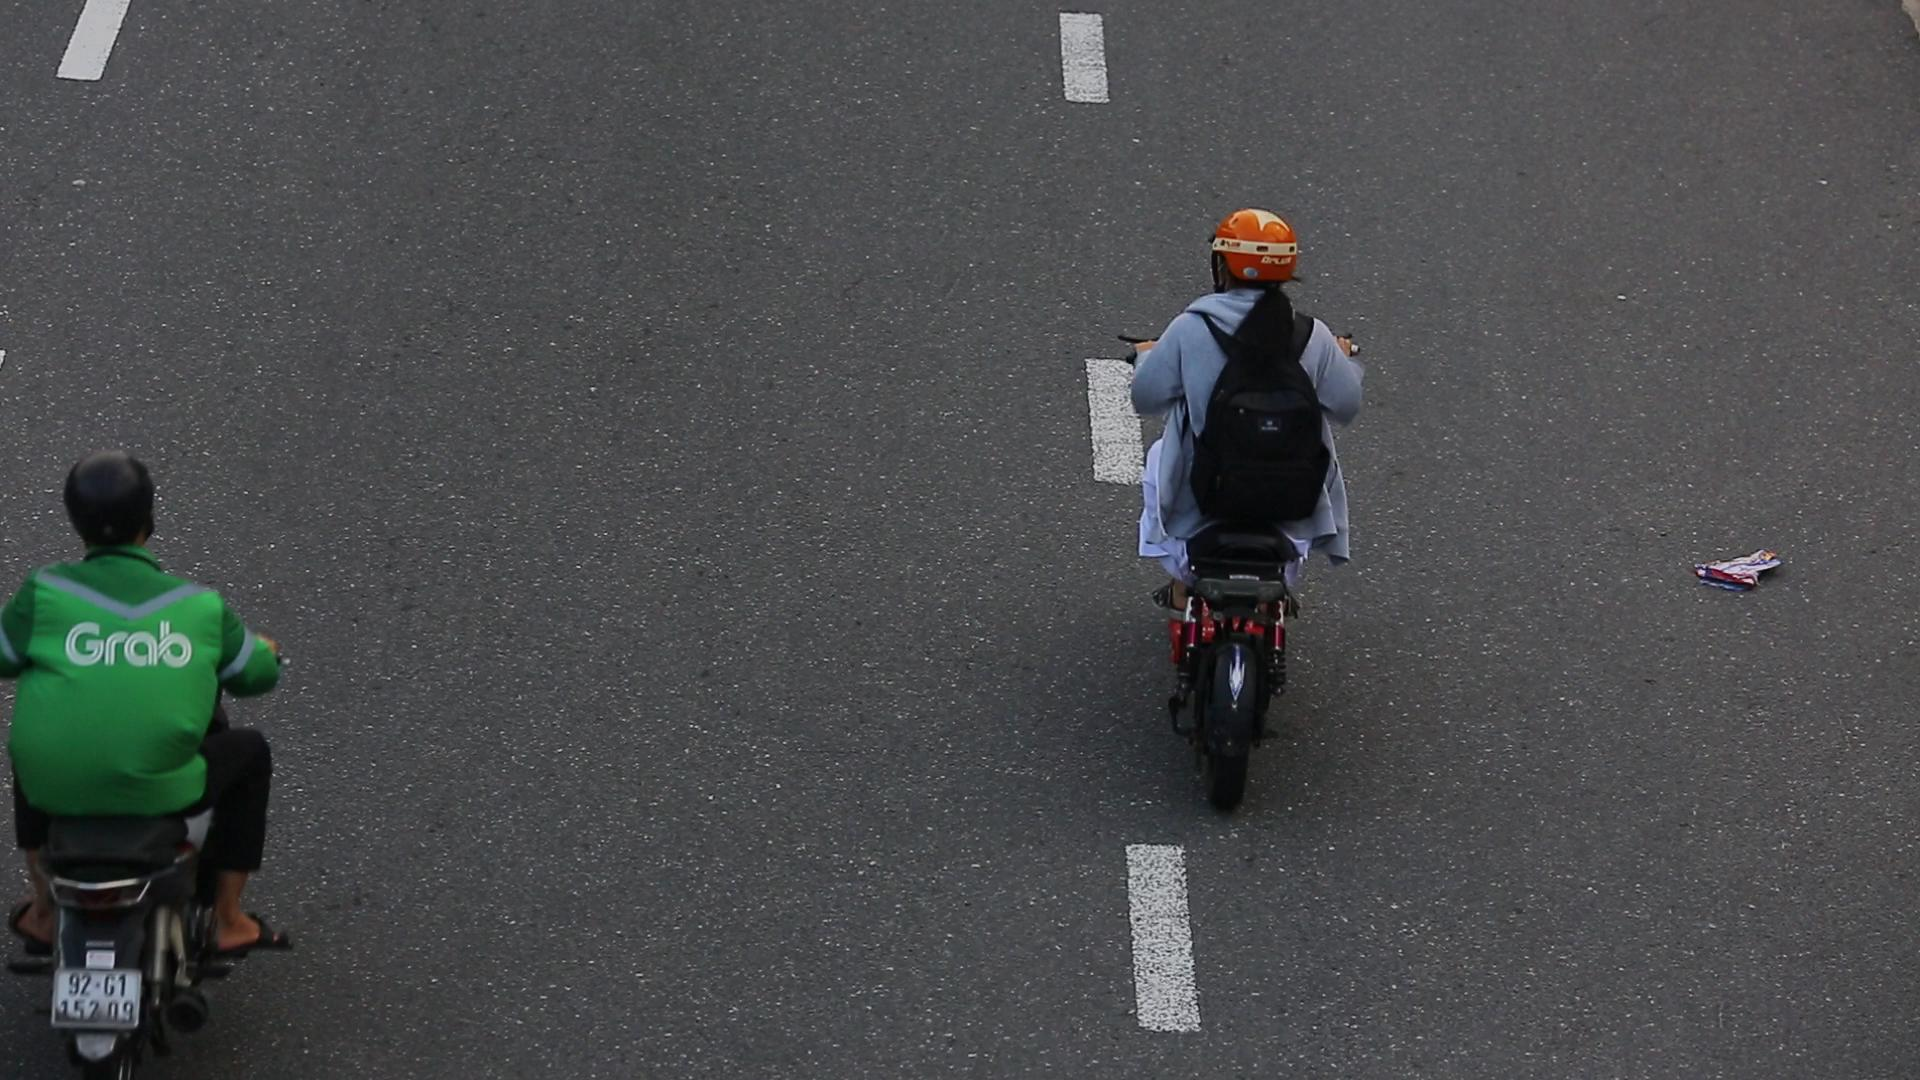motobike: (1097, 181, 1387, 857), (4, 434, 305, 1080)
